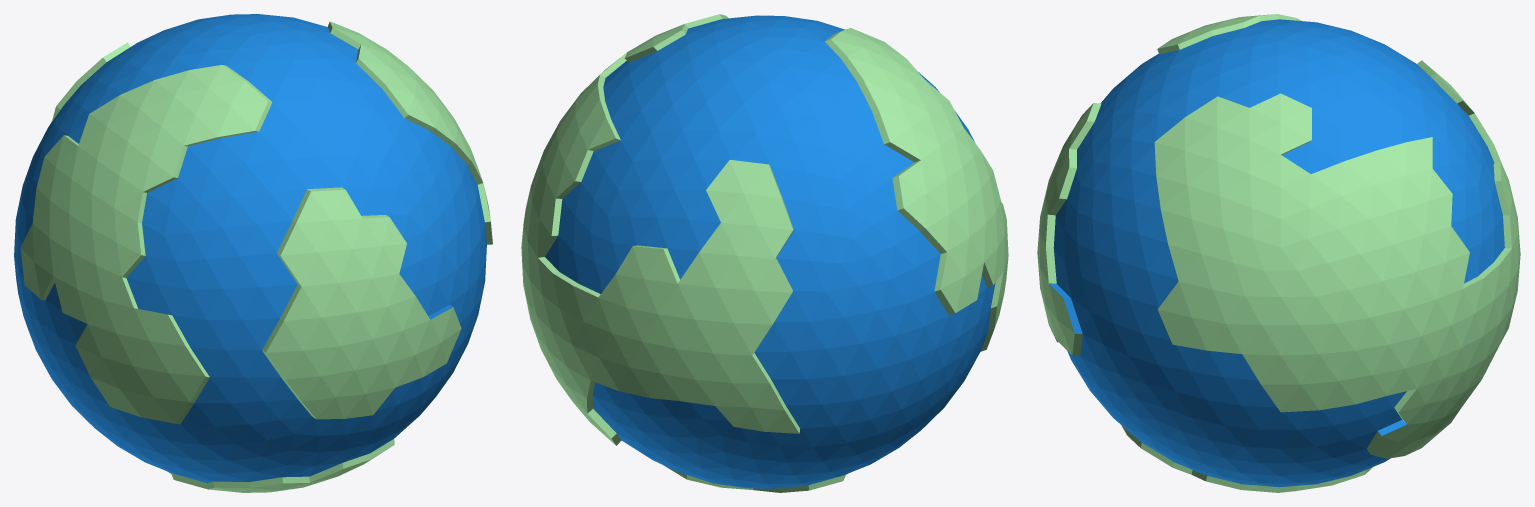
File: Planet.fbx
3 renders of one model, left to right at view 1: azimuth 30°, elevation 25°; view 2: azimuth 150°, elevation 25°; view 3: azimuth 270°, elevation 25°, orthographic.
Visible parts, largest first — view 1: Icosphere.022; view 2: Icosphere.022; view 3: Icosphere.022.
Boxes of the visible parts, bbox=[...] form: Icosphere.022: bbox=[14, 14, 492, 492]; Icosphere.022: bbox=[521, 14, 1008, 492]; Icosphere.022: bbox=[1037, 14, 1520, 492].
Size of the model in its own units: 658 by 649 by 661.
